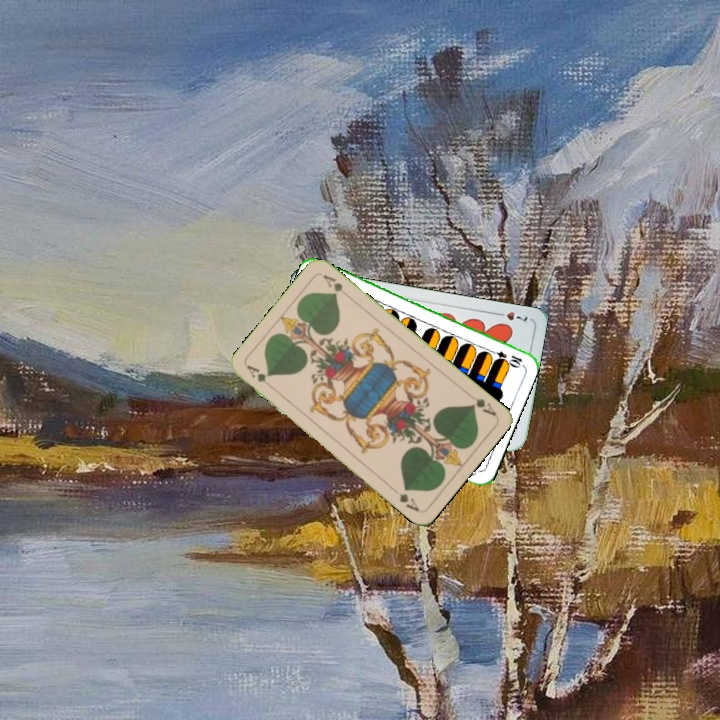E10: (485, 345, 525, 368)
GA: (243, 361, 277, 392), (464, 389, 499, 419)
H7: (491, 308, 530, 324)
